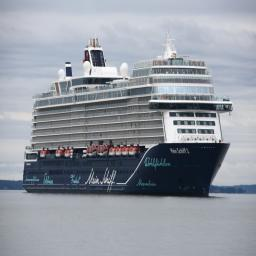cruises: (22, 35, 234, 200)
